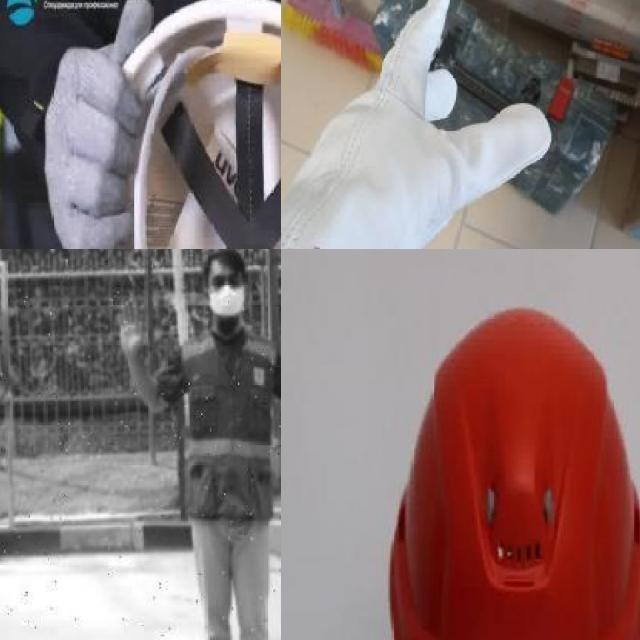apron: (281, 0, 562, 249), (44, 0, 155, 249)
